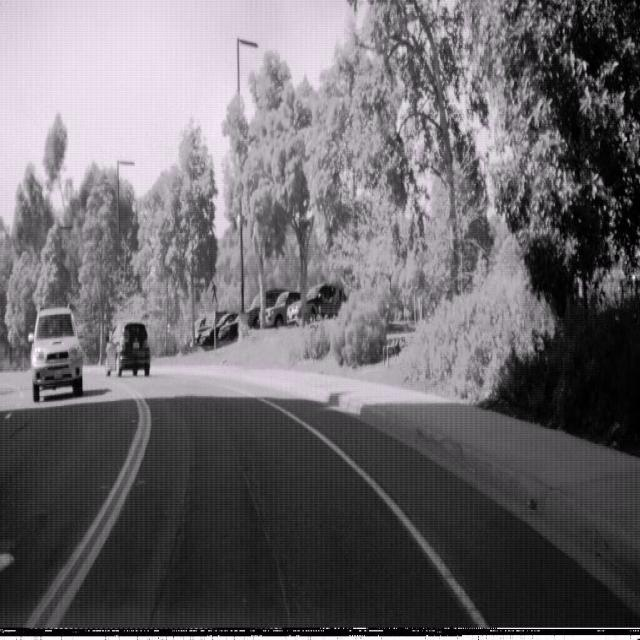pedestrianCrossing: (205, 272, 224, 310)
